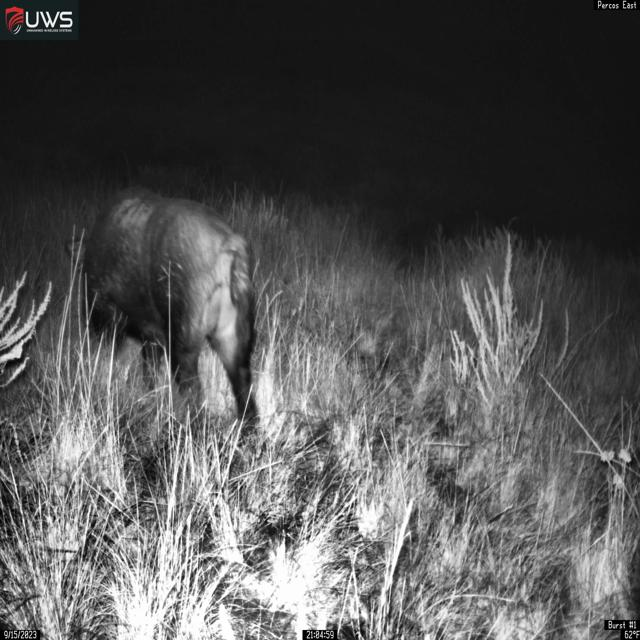pig: (64, 186, 261, 446)
